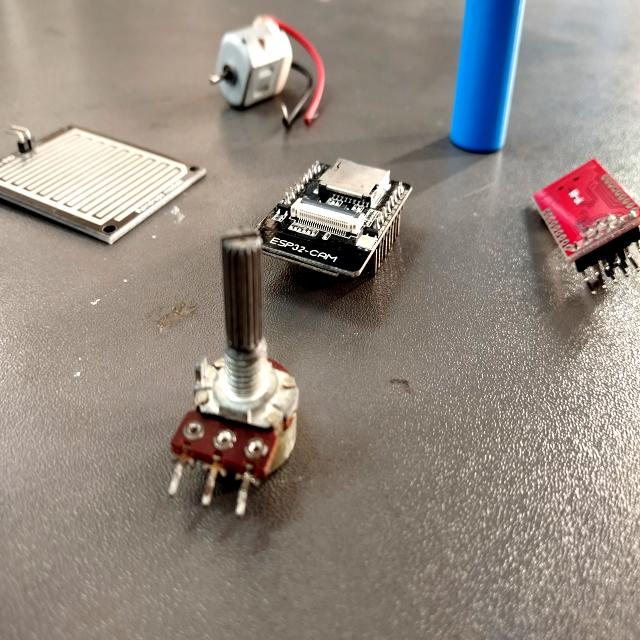3-3-Volt-Battery: (447, 0, 526, 160)
DC-Motor: (208, 14, 294, 112)
ESP32-CAM: (252, 155, 414, 289)
FT-232-USB-Serial-Module: (530, 155, 640, 300)
Raindrops-Module: (0, 116, 210, 249)
Taper-Potentiometer: (165, 226, 301, 517)
